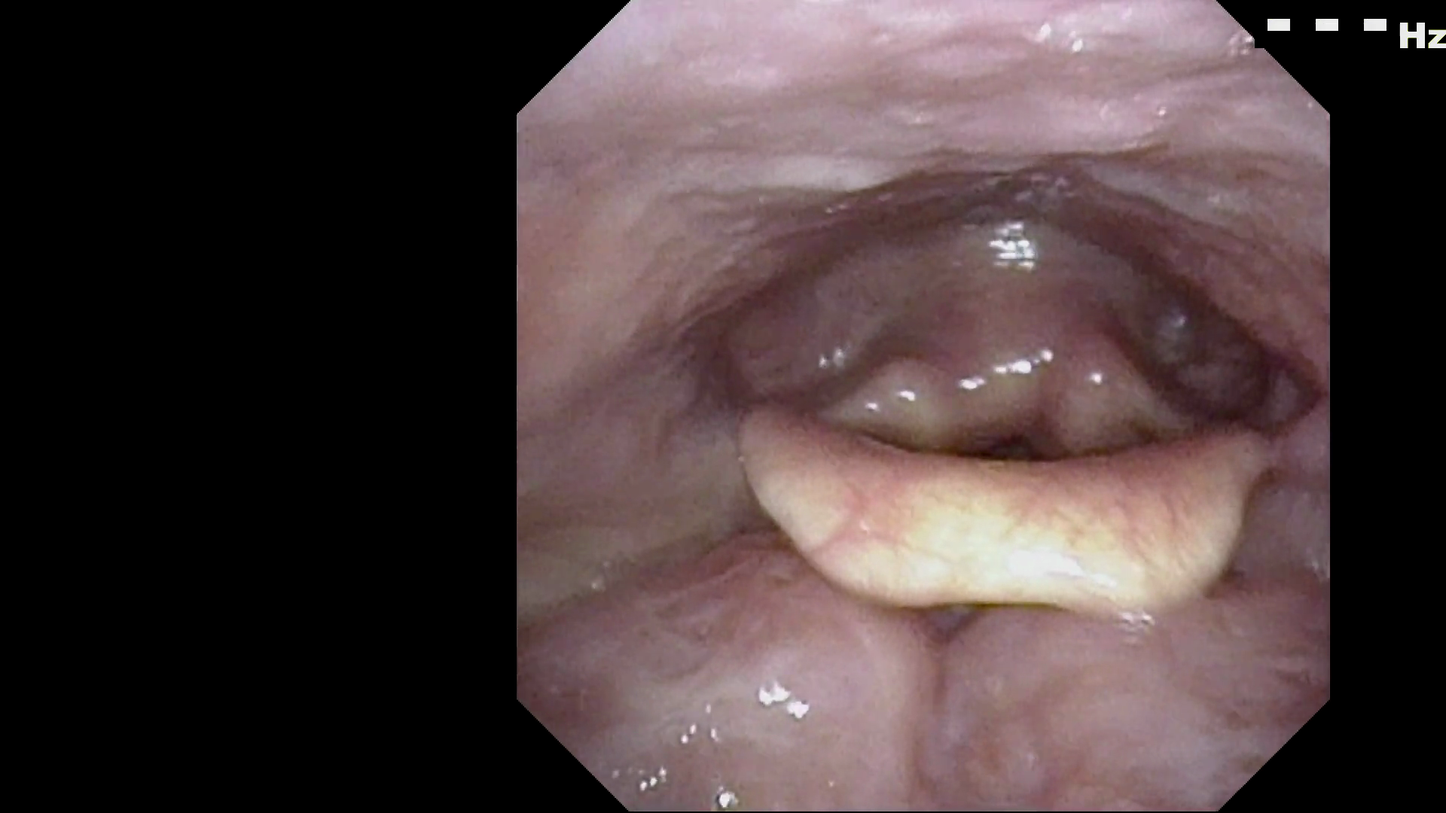epiglottis: (720, 388, 1301, 628)
trachea: (954, 376, 1101, 530)
